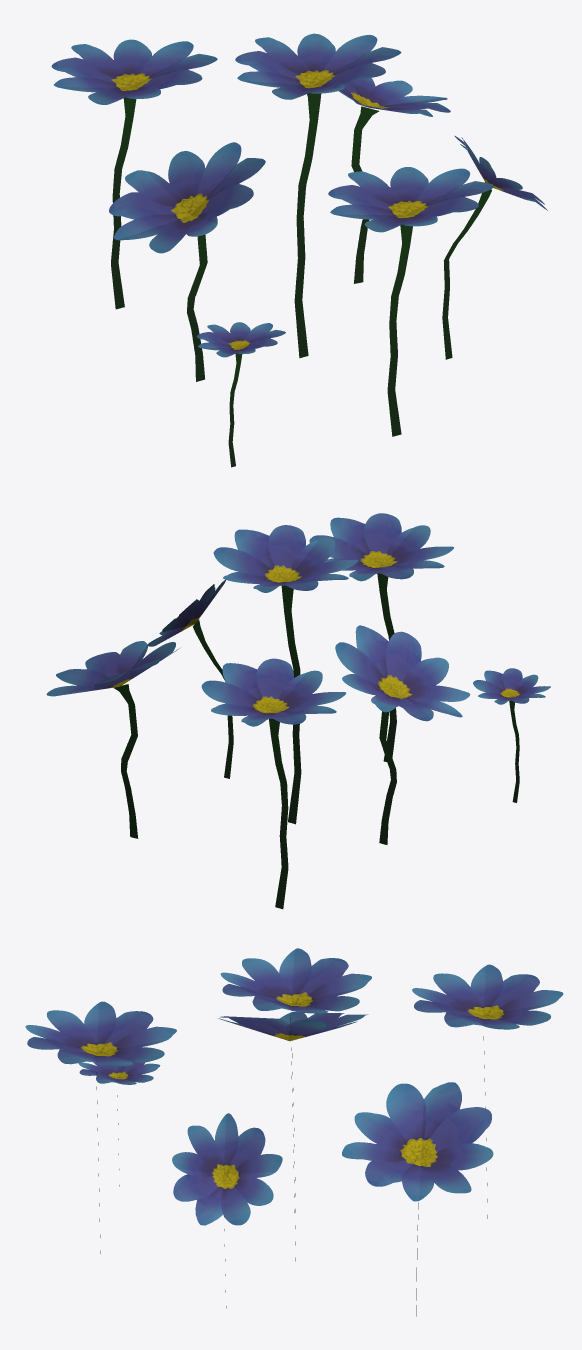
File: Plant004.fbx
3 renders of one model, top to bottom at view 1: azimuth 30°, elevation 25°; view 2: azimuth 150°, elevation 25°; view 3: azimuth 270°, elevation 25°, orthographic. The views are drawn at different scales.
Visible parts, largest first — view 1: Plant; view 2: Plant; view 3: Plant.
Part boxes in pixels (x1,y1,x2,y2): Plant: [51, 33, 547, 467]; Plant: [46, 513, 550, 909]; Plant: [25, 948, 563, 1316].
Size of the model in its own units: 24.14 by 17.36 by 29.34.
